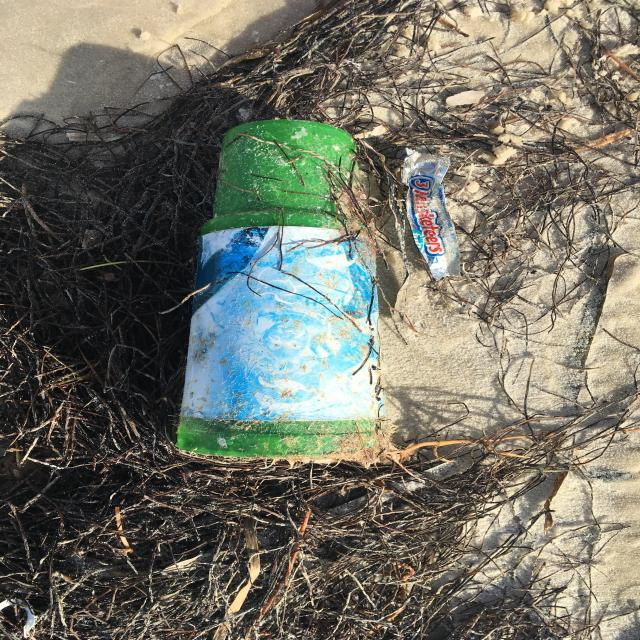litter: (239, 130, 640, 295), (479, 301, 640, 346)
